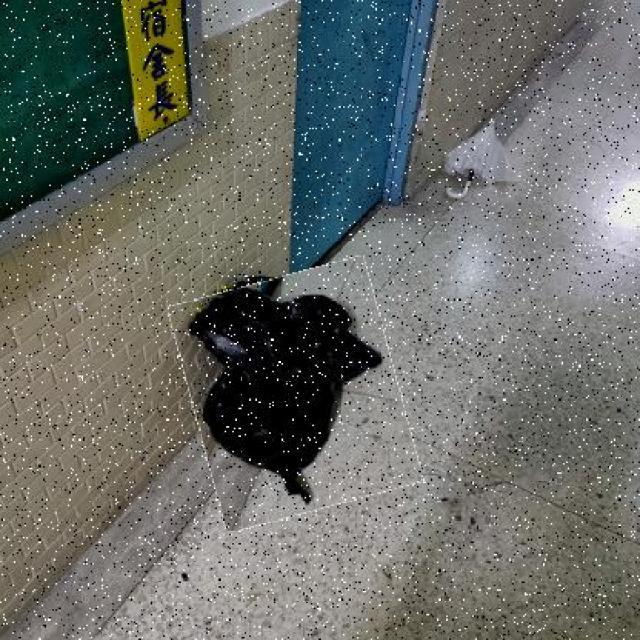waste: (181, 267, 410, 521)
